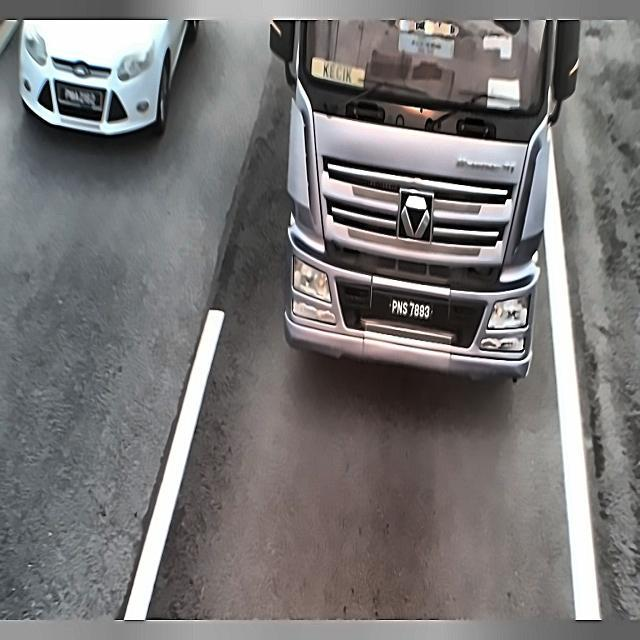car: (380, 292, 440, 328), (48, 78, 107, 114)
